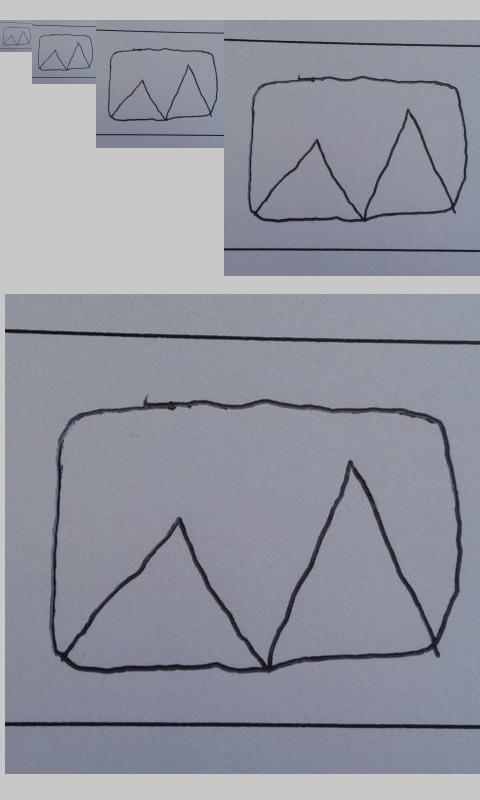image_view: (47, 400, 465, 679), (245, 75, 469, 226), (107, 47, 220, 122), (37, 33, 94, 72), (2, 26, 31, 46)
